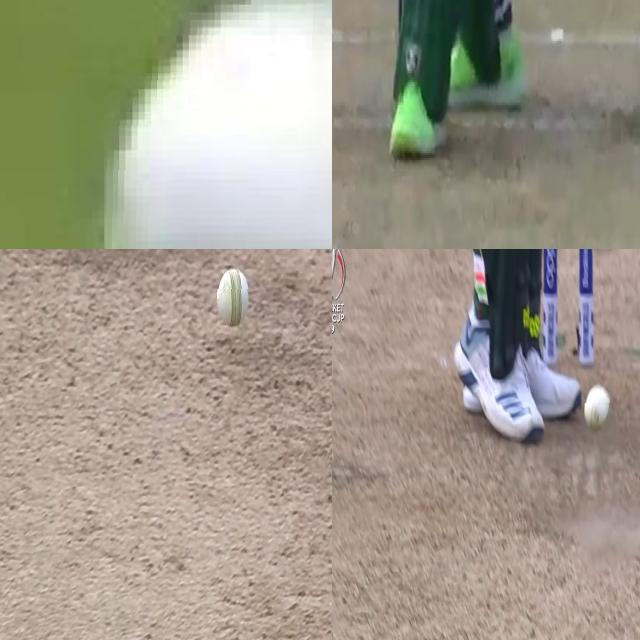Cricket ball: (104, 0, 332, 249), (218, 266, 252, 328), (584, 380, 614, 434)
